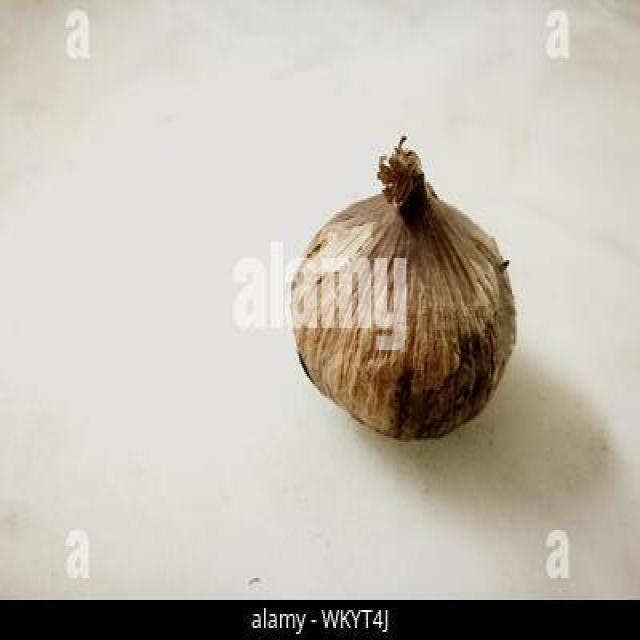Onion: (283, 142, 522, 444)
